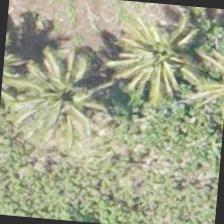Kelapa_Sawit: (10, 50, 108, 148), (95, 7, 193, 104)
